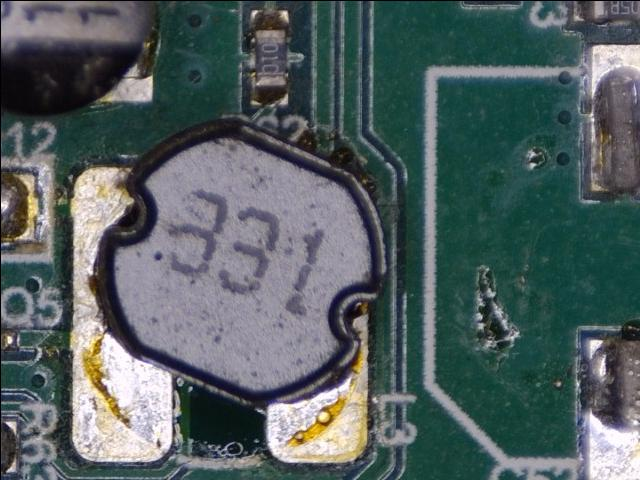Incorrect_installation: (69, 117, 388, 464)
